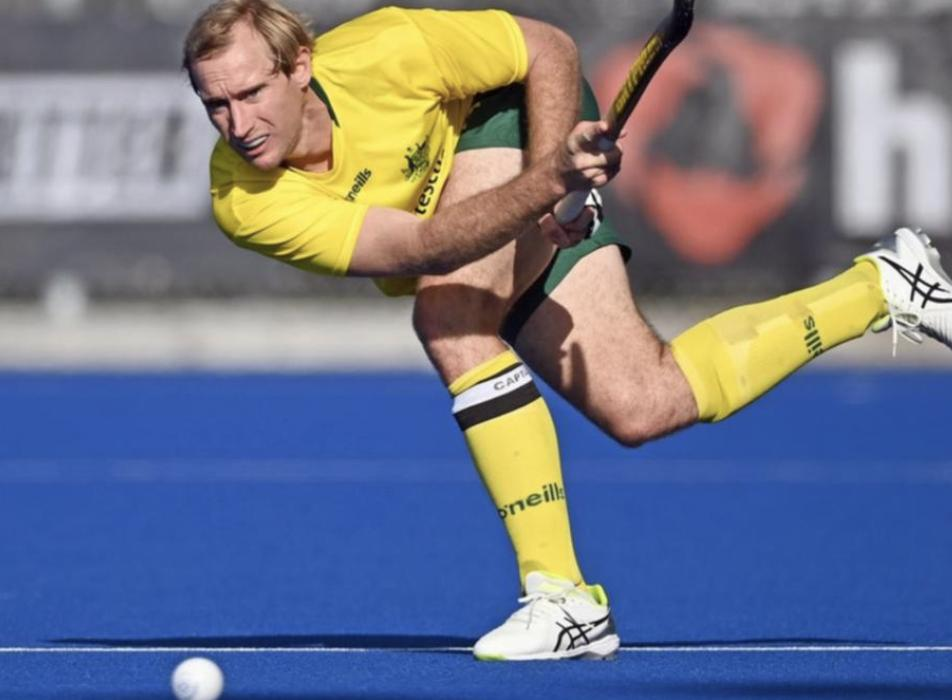ball: (165, 624, 232, 700)
